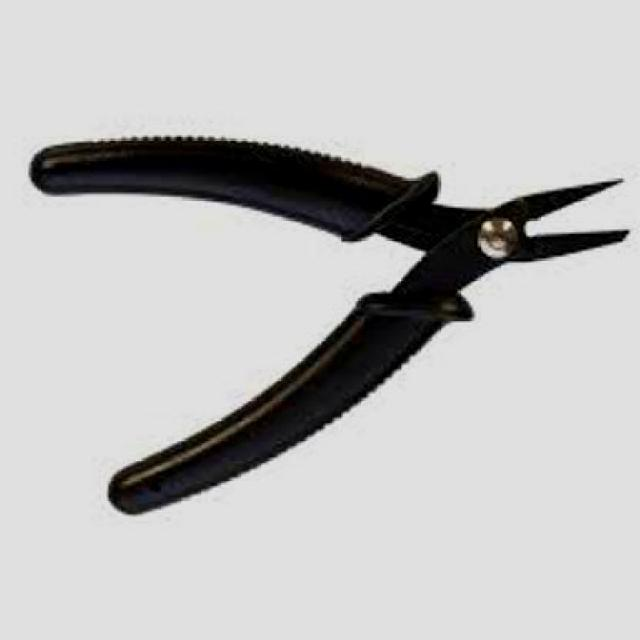Pliers: (20, 81, 638, 542)
